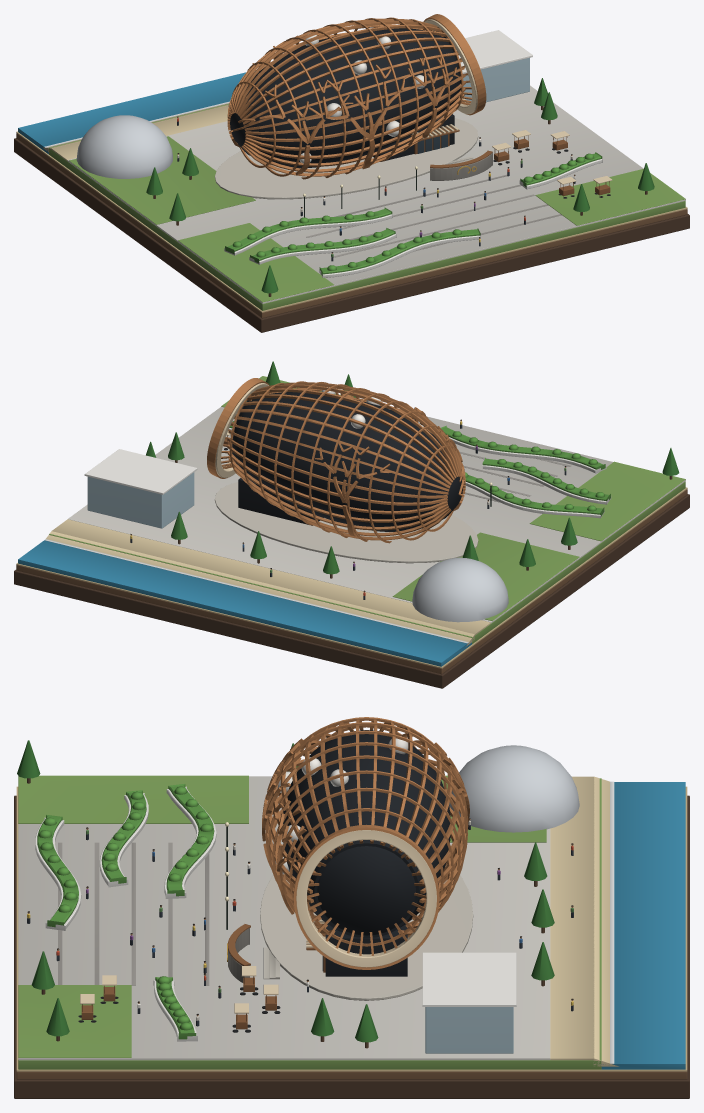
File: nha-hat-do.glb
The picture shows the model from 3 angles, top to bottom: view 1: azimuth 30°, elevation 25°; view 2: azimuth 150°, elevation 25°; view 3: azimuth 270°, elevation 25°; orthographic projection. The views are drawn at different scales.
Parts seen in each view (by area): view 1: ND_band; view 2: ND_band; view 3: ND_band.
Part boxes in pixels (x1,y1,x2,y2): ND_band: (14, 14, 689, 332); ND_band: (14, 361, 689, 688); ND_band: (14, 717, 689, 1098).
Size of the model in its own units: 92 by 32.13 by 92.
1 material, 1 textured.
